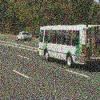buses: (35, 24, 100, 67)
